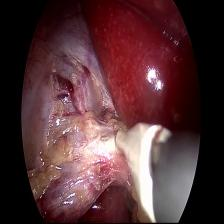Hook: (100, 114, 164, 205)
